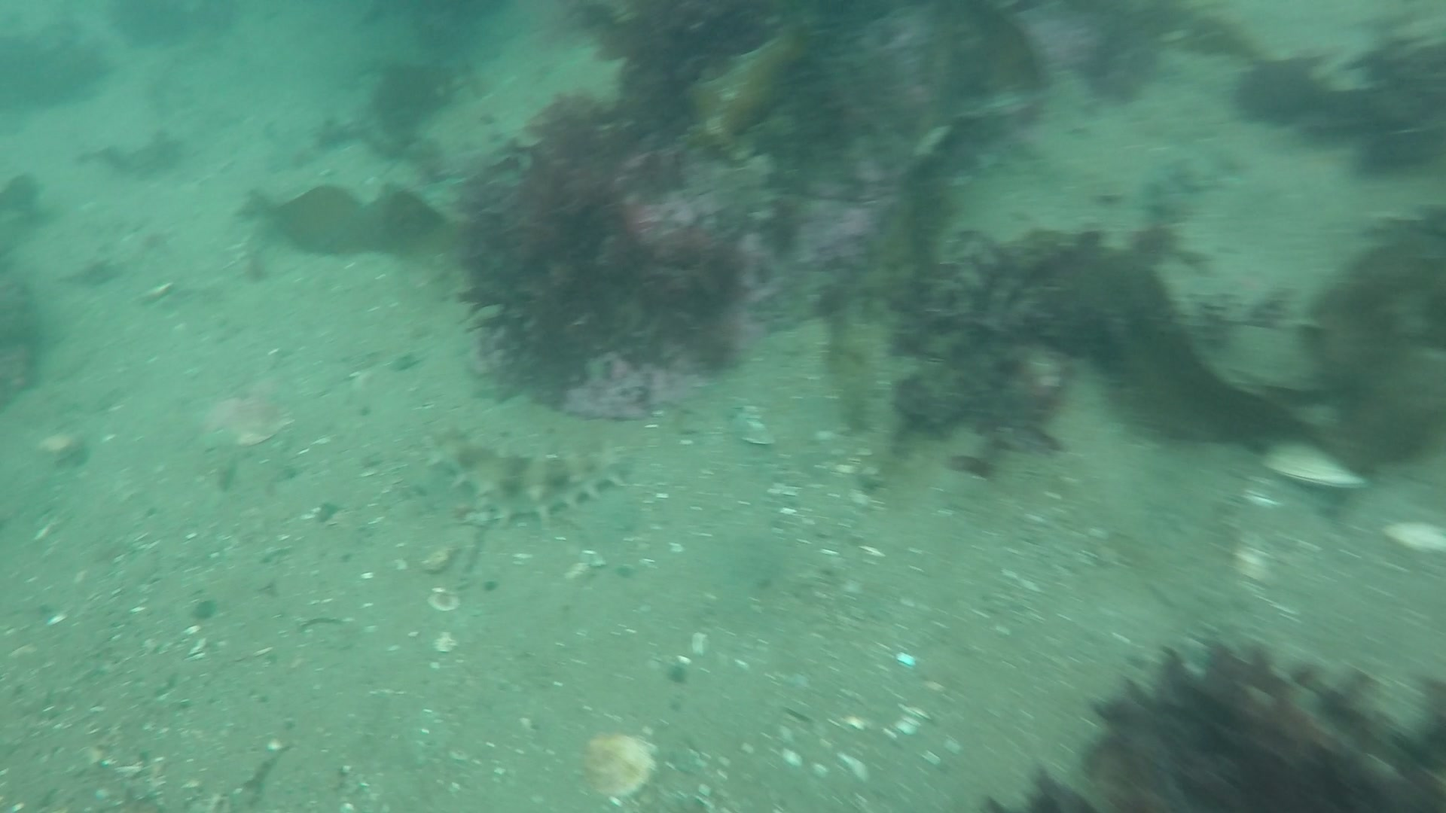echinus: (410, 415, 636, 522)
scallop: (1255, 435, 1371, 492), (194, 388, 300, 446), (582, 730, 657, 800)
